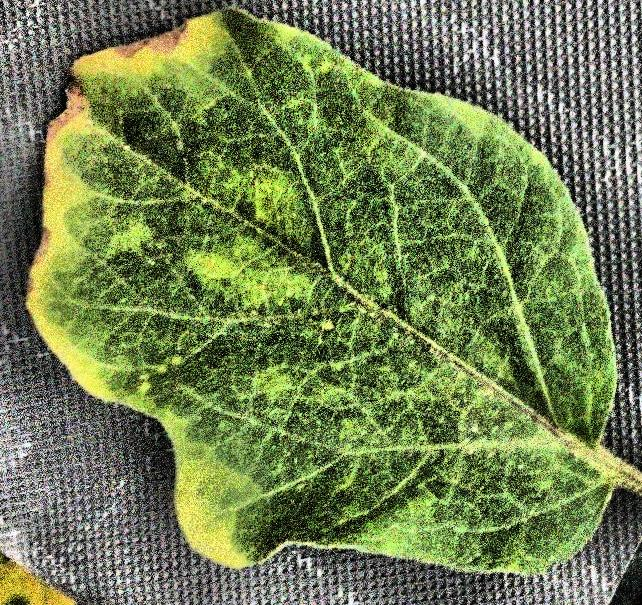Non-critical Stress: (1, 0, 642, 605)
